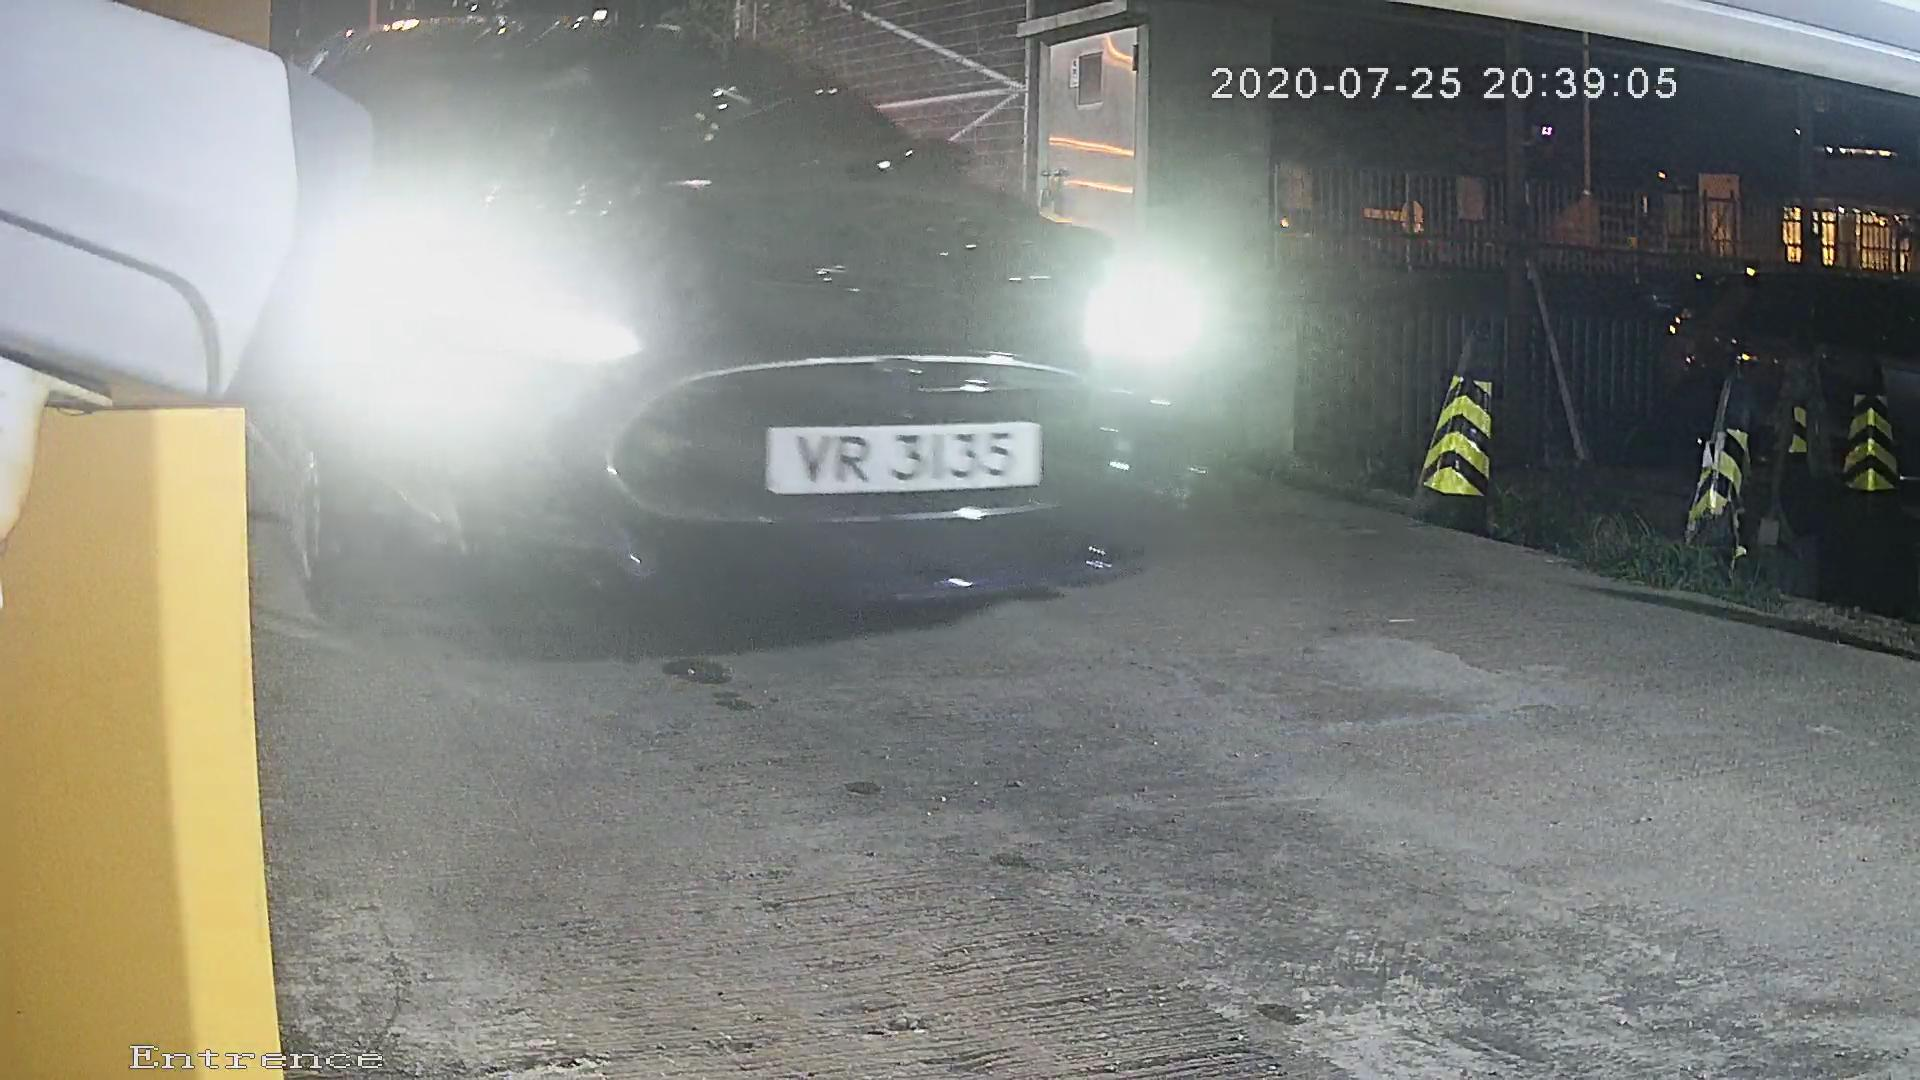License Plate: (703, 406, 1081, 502)
